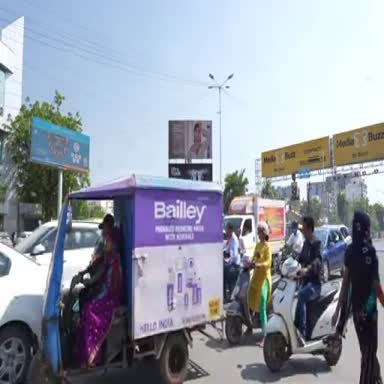Car: (0, 244, 47, 383), (62, 220, 100, 290), (315, 226, 347, 282), (335, 224, 352, 245), (15, 232, 32, 244), (0, 232, 13, 247)
